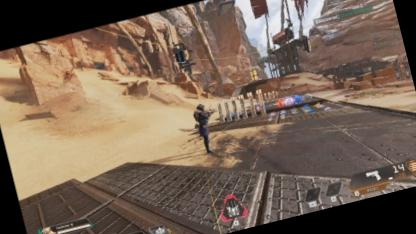Target: (190, 101, 216, 154)
